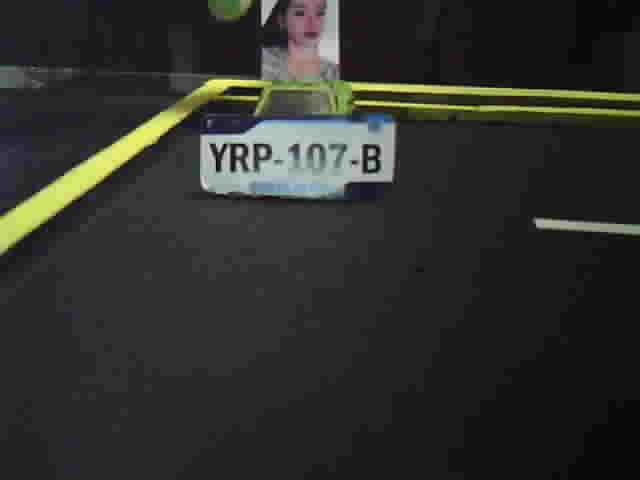PLACA: (198, 112, 399, 206)
ROSTRO: (260, 1, 341, 83)
